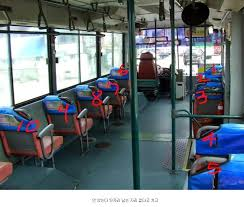seat: (38, 90, 95, 139)
